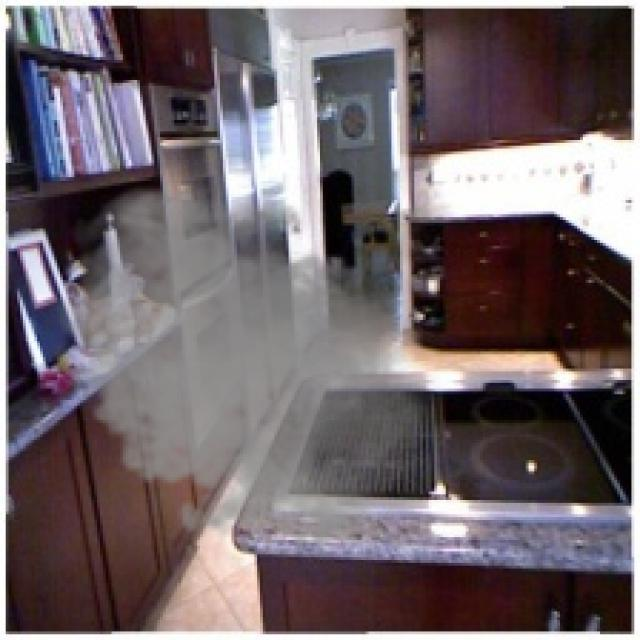Smoke: (46, 180, 448, 560)
